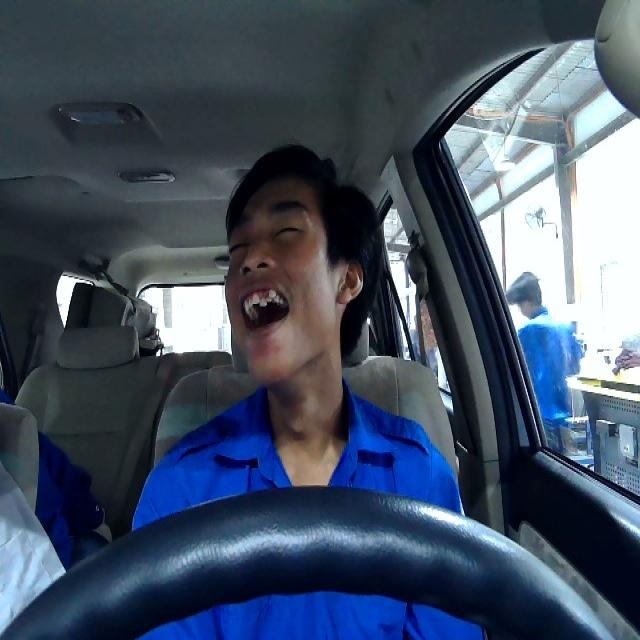yarning: (224, 175, 362, 388)
